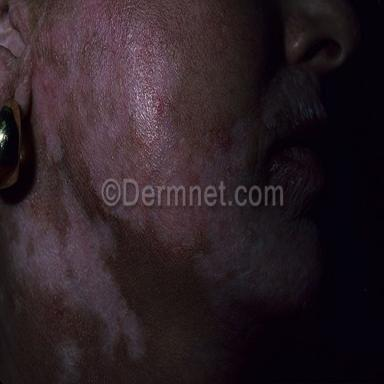Lupus-Erythematosus-Chronicus-Discoides: (0, 1, 321, 364), (107, 207, 318, 324)
